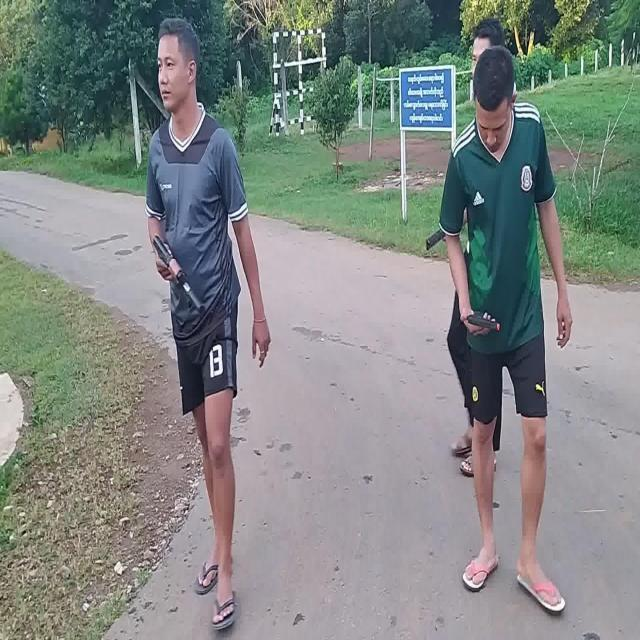gun: (154, 236, 203, 313), (468, 312, 500, 330)
